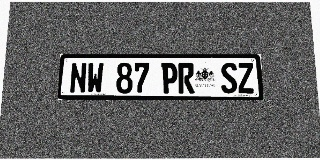7: (133, 63, 150, 93)
8: (116, 62, 133, 93)
N: (69, 62, 87, 93)
P: (161, 63, 178, 93)
R: (178, 63, 195, 93)
S: (220, 63, 238, 93)
W: (86, 62, 104, 93)
Z: (237, 63, 255, 93)
